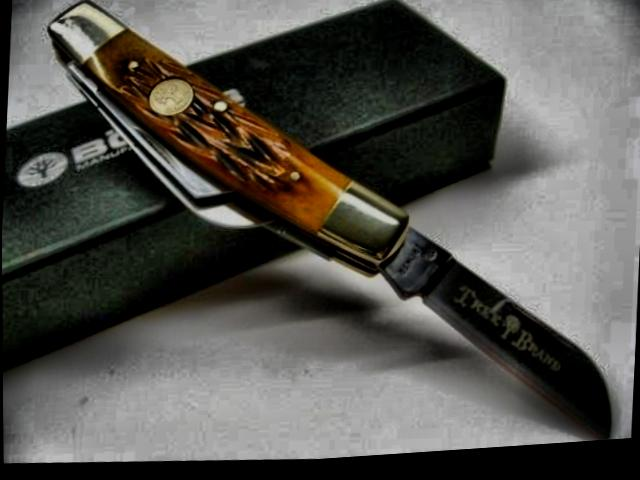knife: (357, 208, 633, 461)
